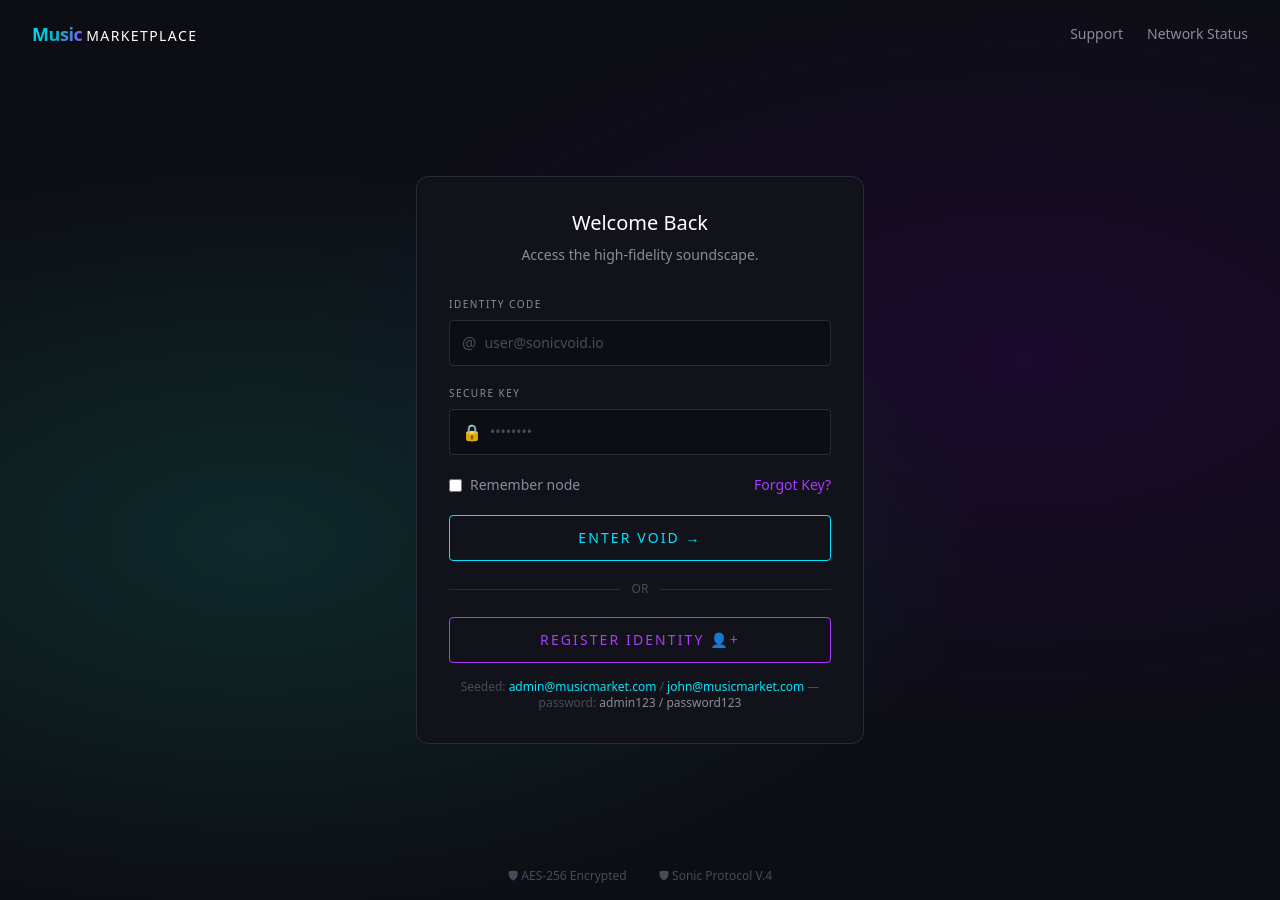
LoginPage › validates login form
Click the button "Enter Void →". click: {"x": 640, "y": 538}
box: [449,515,831,561]
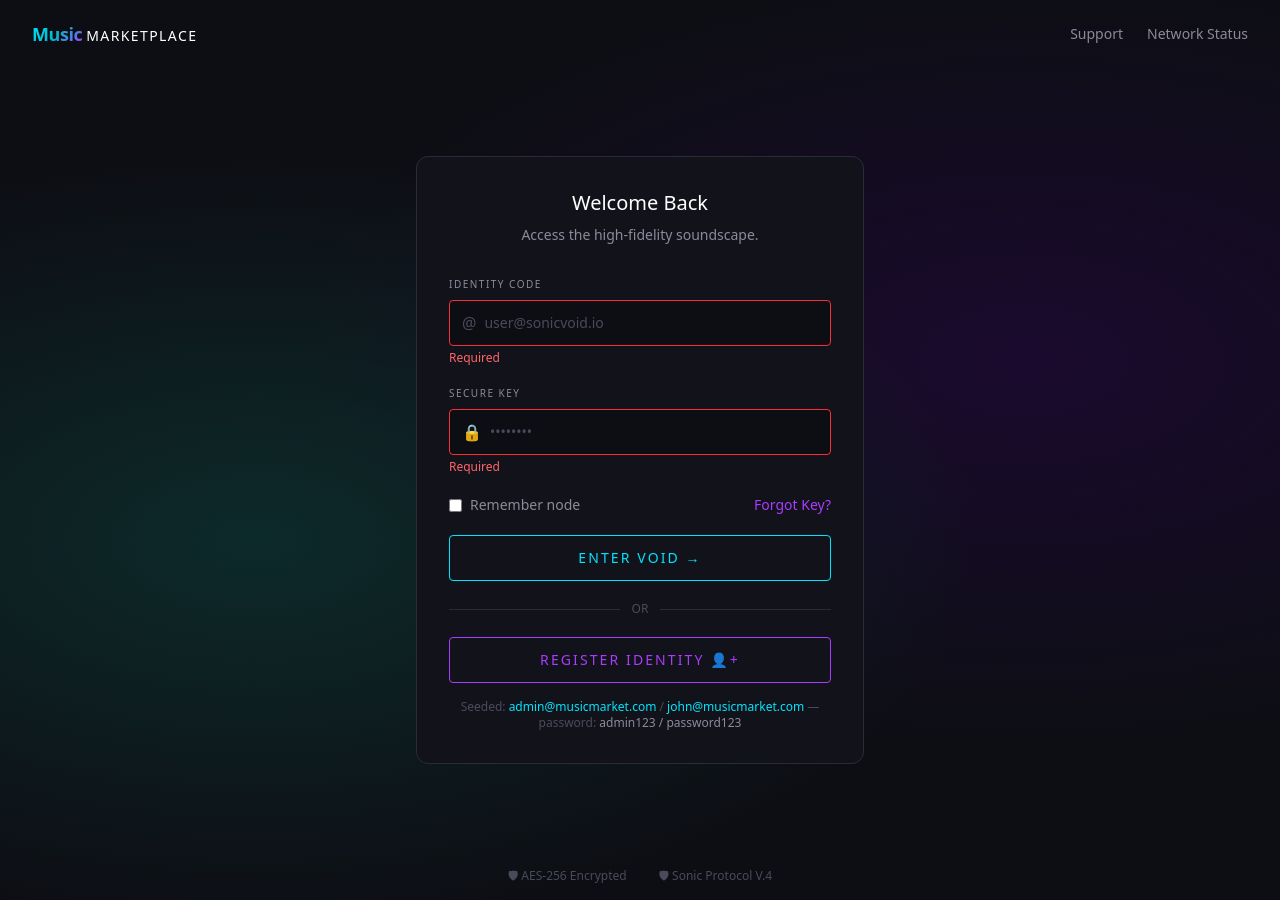
Now the text "Required" is shown 2 times, box [449,349,500,366]; [449,458,500,475]
